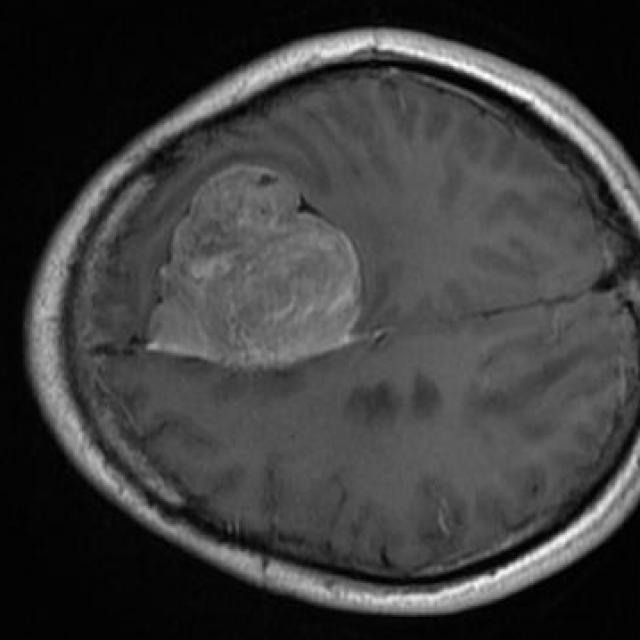meningioma: (146, 169, 362, 369)
